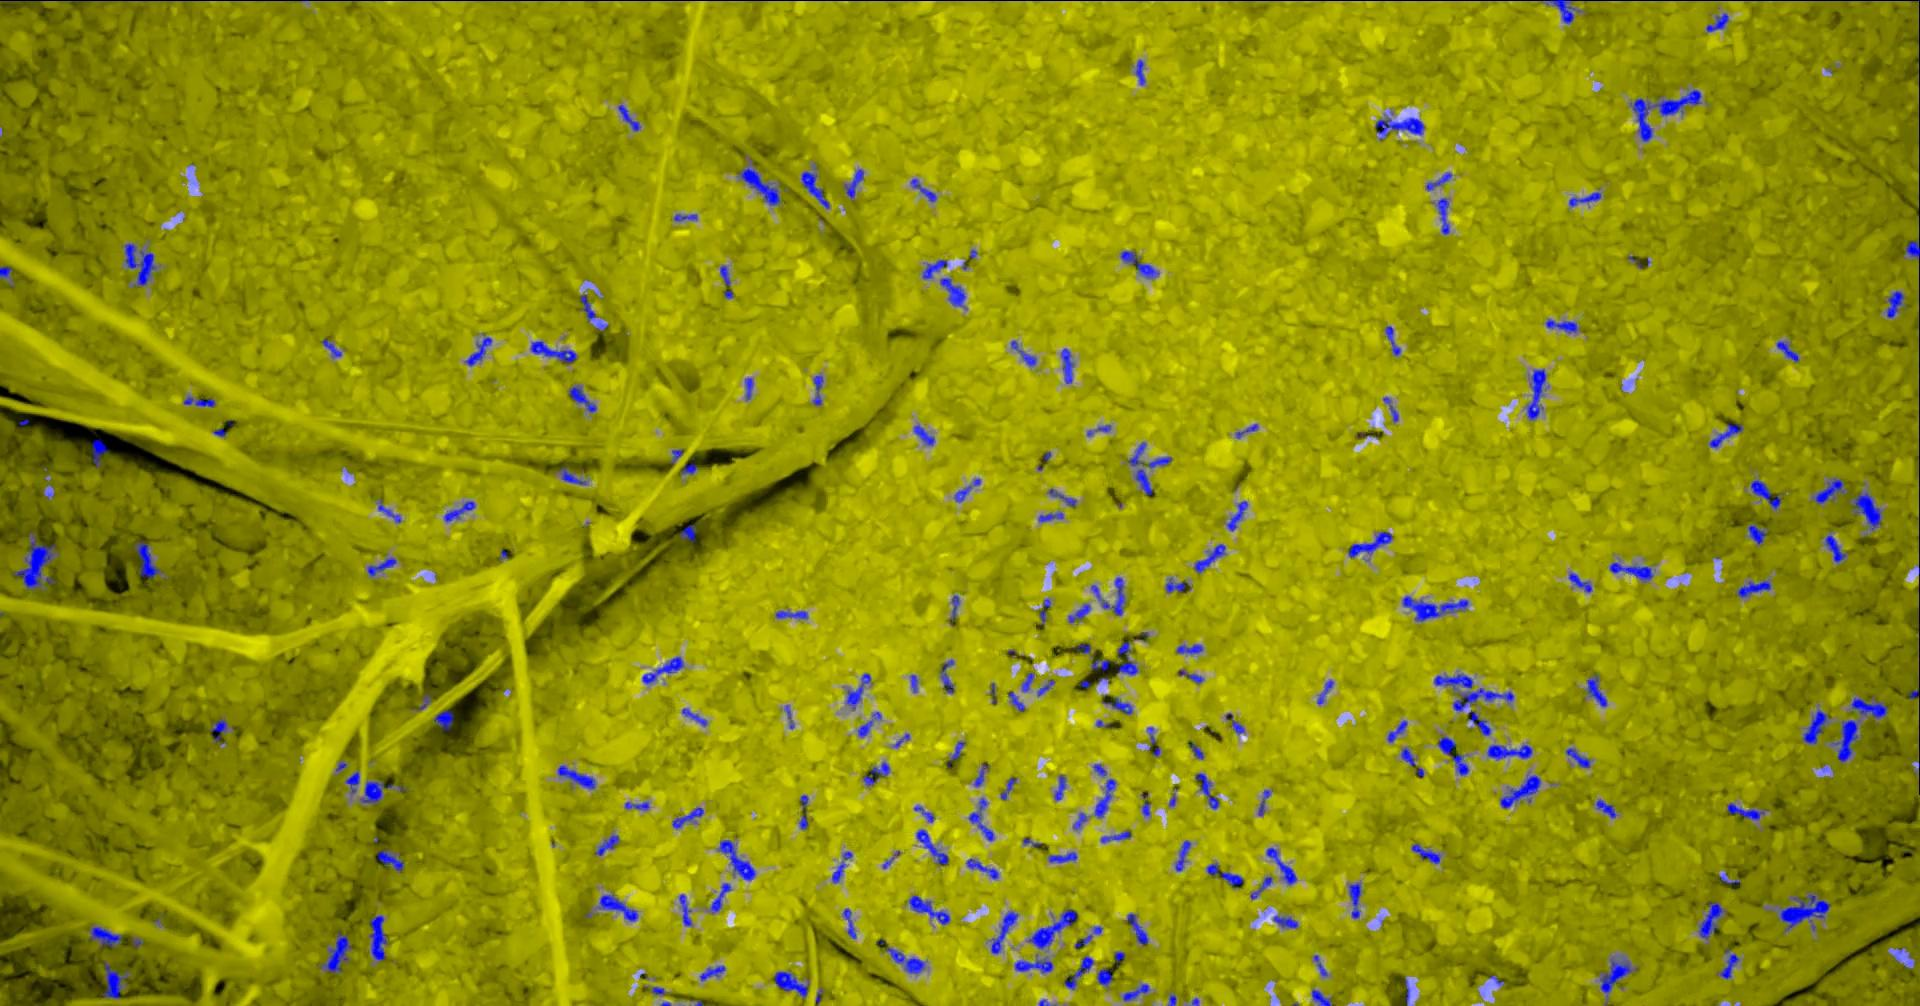ant: (1630, 89, 1703, 141), (1435, 673, 1515, 711), (14, 531, 57, 589), (1129, 441, 1173, 495), (1782, 890, 1831, 931), (1030, 909, 1078, 948), (1404, 594, 1470, 621), (739, 166, 782, 205), (720, 840, 757, 880), (319, 931, 353, 973), (1501, 774, 1542, 808), (126, 243, 157, 285), (1092, 577, 1126, 615), (1832, 719, 1862, 762), (1439, 735, 1470, 775), (1349, 531, 1394, 558), (1528, 368, 1550, 420), (917, 829, 950, 865), (643, 655, 684, 683), (1601, 956, 1633, 993), (1853, 492, 1883, 530), (910, 895, 951, 923), (1377, 117, 1426, 140), (992, 911, 1018, 953), (970, 796, 996, 840), (1269, 847, 1298, 884), (803, 170, 830, 208), (1123, 250, 1161, 278), (1700, 901, 1728, 939), (599, 894, 639, 921), (136, 541, 164, 578), (888, 946, 926, 973), (532, 340, 578, 362), (1065, 956, 1095, 989), (1195, 542, 1227, 572), (559, 763, 597, 788), (1196, 774, 1222, 809), (775, 970, 810, 996), (1752, 479, 1782, 509), (1208, 862, 1244, 887), (105, 962, 130, 998), (1710, 420, 1743, 447), (1815, 478, 1849, 503), (1804, 709, 1830, 743), (370, 915, 389, 960), (848, 673, 872, 709), (1611, 561, 1655, 580), (1096, 779, 1117, 817), (1545, 0, 1581, 23), (1728, 801, 1770, 821), (362, 779, 395, 803), (941, 277, 968, 306), (1117, 641, 1140, 674), (1853, 697, 1890, 718), (570, 385, 598, 412), (1128, 913, 1150, 945), (444, 500, 477, 522), (90, 926, 123, 948), (467, 337, 493, 365), (1589, 672, 1609, 706), (1488, 744, 1534, 760), (673, 807, 705, 828), (968, 857, 999, 879), (1228, 500, 1250, 531), (833, 851, 855, 882), (1012, 340, 1037, 366), (618, 104, 643, 131), (865, 761, 891, 785), (378, 848, 405, 873), (1721, 948, 1741, 978), (912, 178, 938, 201), (846, 168, 865, 198), (956, 478, 982, 500), (1469, 710, 1492, 735), (712, 882, 731, 912), (1826, 535, 1848, 561), (1413, 843, 1443, 862), (378, 499, 403, 522), (1738, 580, 1771, 597), (560, 465, 588, 484), (1016, 958, 1054, 972), (1176, 840, 1192, 871), (93, 438, 110, 467), (1567, 747, 1592, 767), (1437, 197, 1451, 234), (1570, 191, 1603, 206), (1103, 697, 1134, 714), (1062, 348, 1076, 384), (1050, 488, 1078, 506), (370, 558, 397, 575), (949, 741, 966, 768), (1123, 983, 1150, 1001), (1252, 876, 1274, 899), (596, 835, 620, 855), (1427, 171, 1453, 191), (923, 259, 949, 278), (1385, 325, 1402, 354), (1350, 882, 1363, 918), (1778, 340, 1801, 361), (1570, 572, 1592, 592), (721, 265, 735, 298), (1888, 290, 1905, 318), (683, 708, 709, 725), (1547, 318, 1578, 332), (1389, 720, 1410, 742), (1707, 11, 1730, 30), (1069, 603, 1092, 622), (942, 659, 955, 694), (211, 718, 229, 742), (582, 293, 597, 321), (681, 894, 695, 925), (436, 709, 455, 730), (1227, 713, 1246, 734), (844, 908, 858, 937), (1258, 789, 1274, 815), (323, 338, 343, 357), (1384, 396, 1399, 422), (916, 426, 936, 445), (1167, 577, 1192, 592), (1102, 829, 1133, 842), (701, 965, 726, 981), (1318, 680, 1335, 702), (1749, 525, 1768, 544), (1597, 799, 1617, 818), (1010, 690, 1026, 711), (1002, 777, 1018, 799), (1180, 669, 1205, 683), (1274, 915, 1299, 929), (975, 763, 990, 786), (916, 805, 936, 822), (1237, 423, 1258, 438), (814, 373, 824, 405), (185, 396, 217, 406), (1050, 851, 1078, 862), (951, 594, 961, 625), (1313, 989, 1333, 1005), (1055, 774, 1067, 800), (347, 771, 361, 793), (1316, 954, 1330, 976), (681, 525, 697, 542), (1905, 239, 1920, 258), (1098, 967, 1114, 986), (777, 610, 809, 619), (682, 457, 698, 474), (1041, 598, 1051, 625), (1039, 680, 1057, 695), (1402, 747, 1416, 766), (1076, 934, 1095, 948), (1137, 58, 1147, 84), (1074, 643, 1097, 653), (1910, 676, 1920, 699), (858, 720, 874, 735), (1074, 812, 1088, 828), (1040, 512, 1065, 521), (1178, 644, 1204, 653), (1192, 742, 1205, 760), (1023, 672, 1035, 691), (626, 801, 651, 809), (745, 377, 754, 399), (1093, 659, 1111, 669), (1095, 763, 1109, 776), (676, 213, 698, 221), (1, 265, 14, 278)
